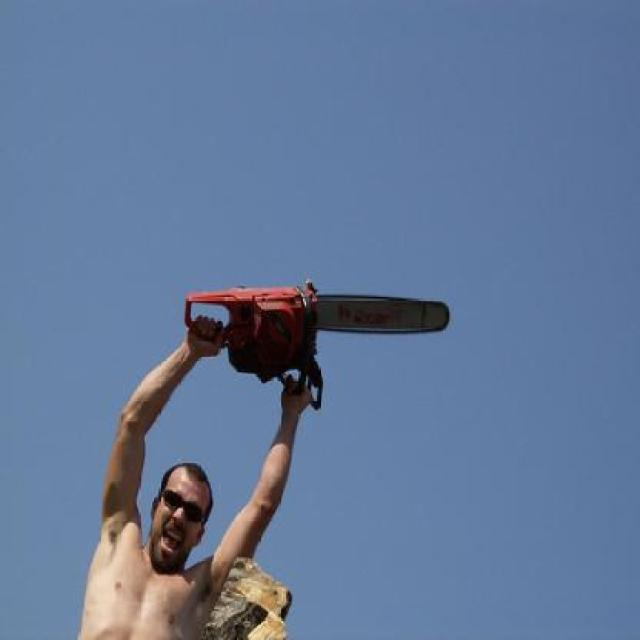Chainsaw: (188, 278, 454, 409)
